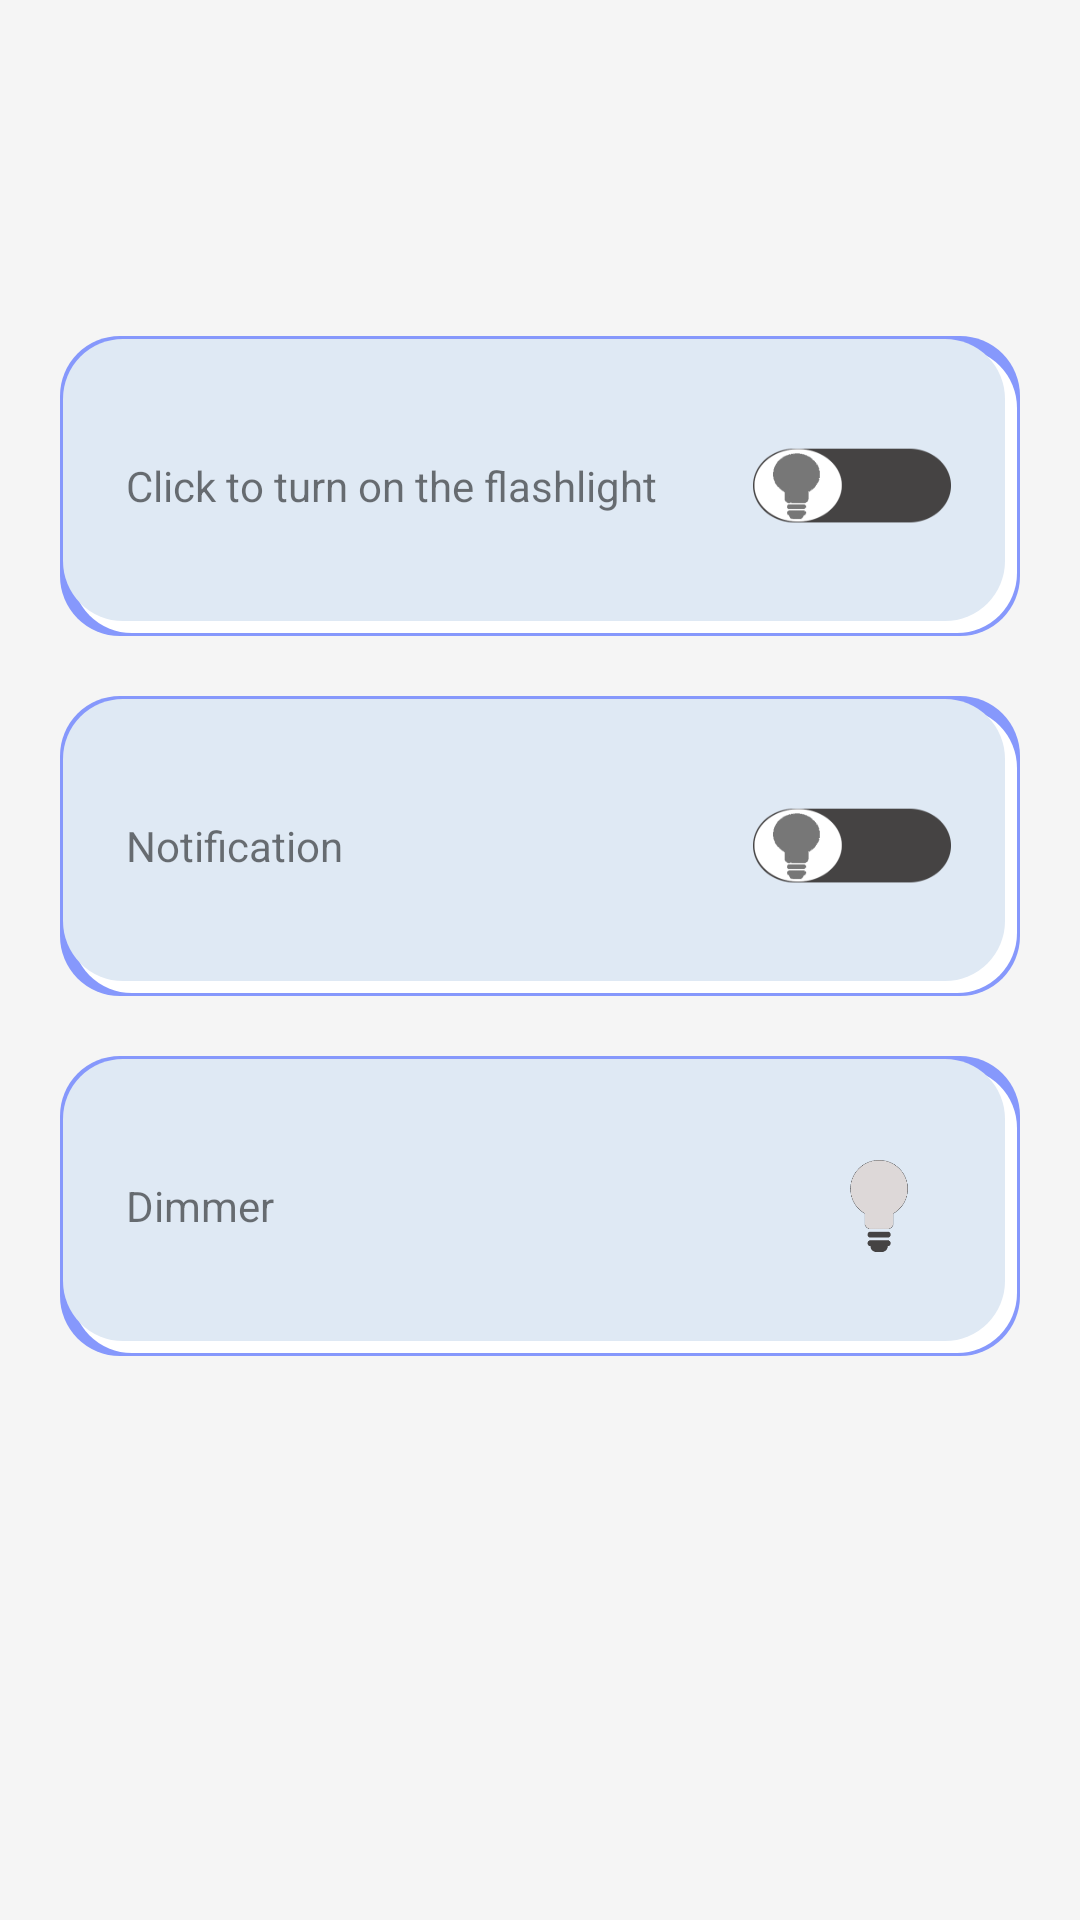

Named icons in this screenshot (1080px×1920px) and their bounding boxes, bbox(x1, y1, x2, y2):
bulb: bbox(850, 1160, 908, 1252)
